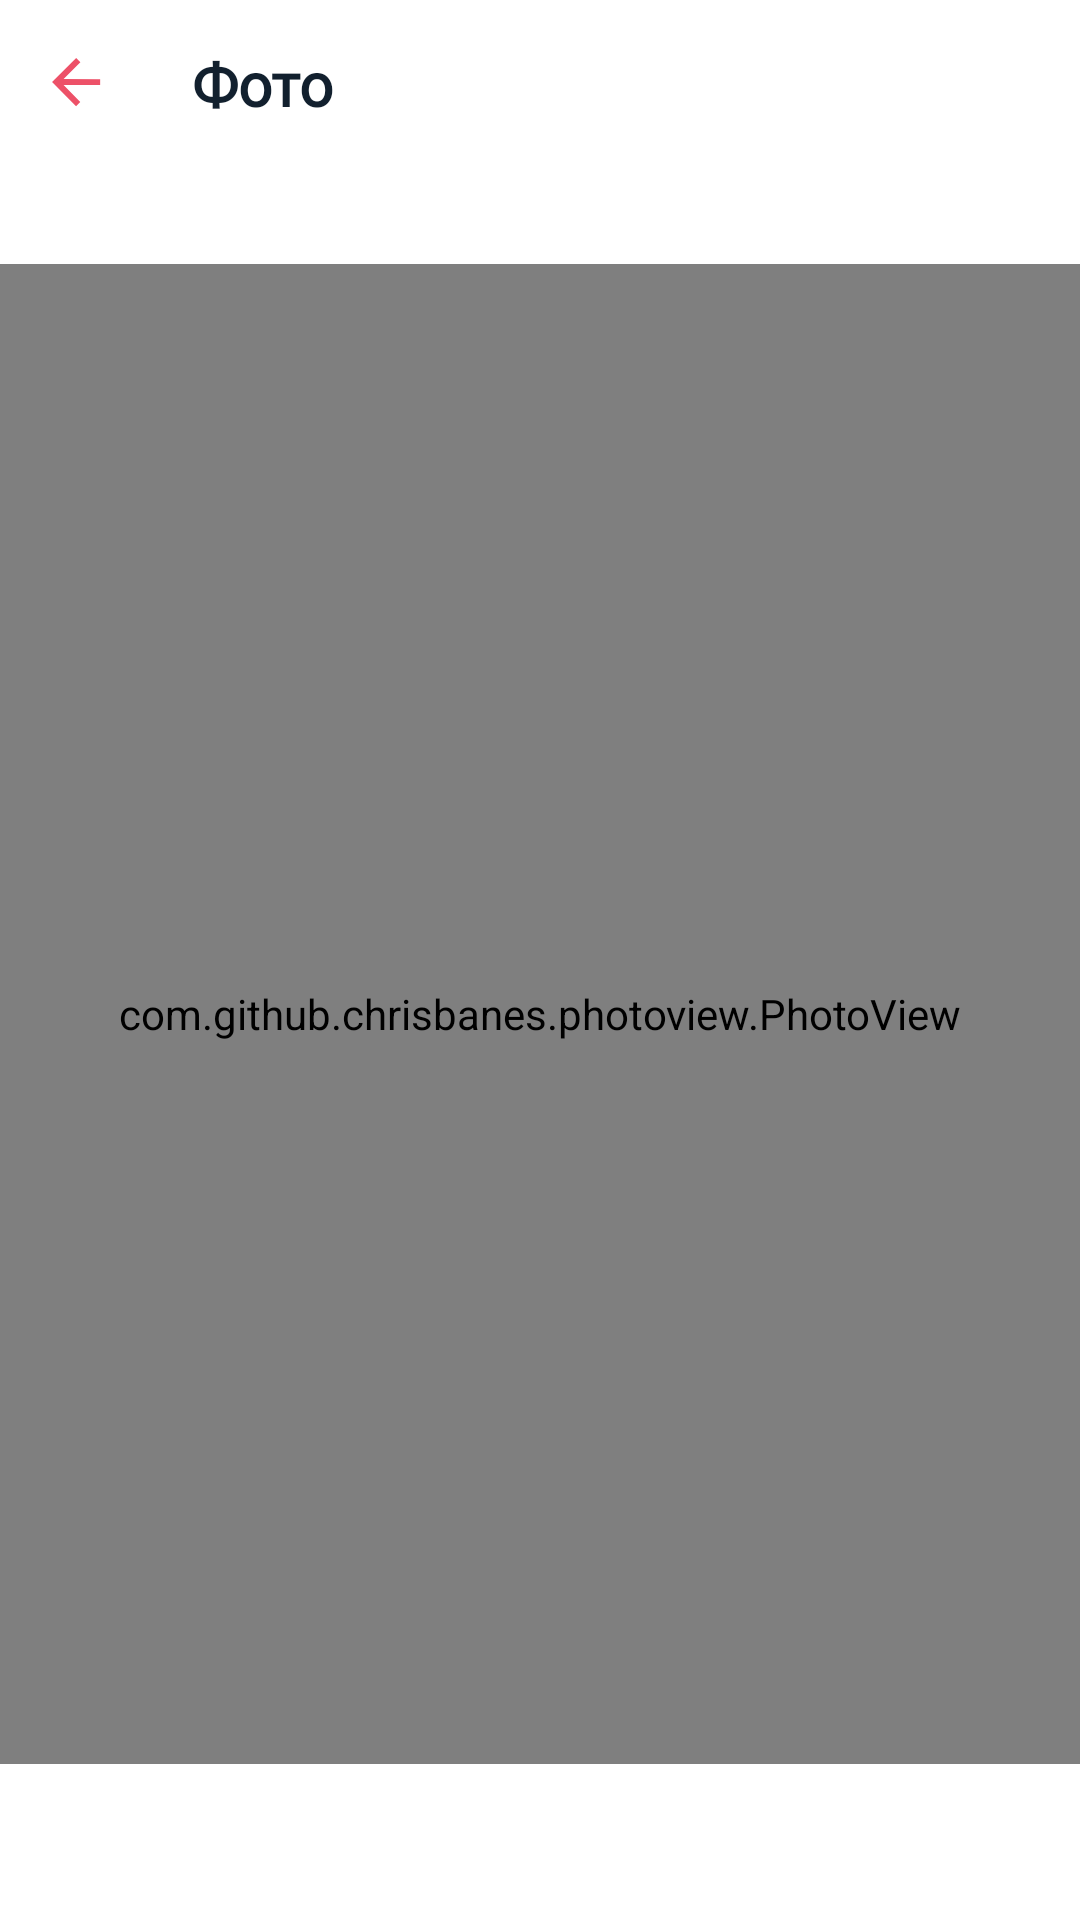

Where icons sit on this 1080w x 1920h app screen, as (x1, y1, x2, y2):
arrow back: (52, 58, 101, 106)
